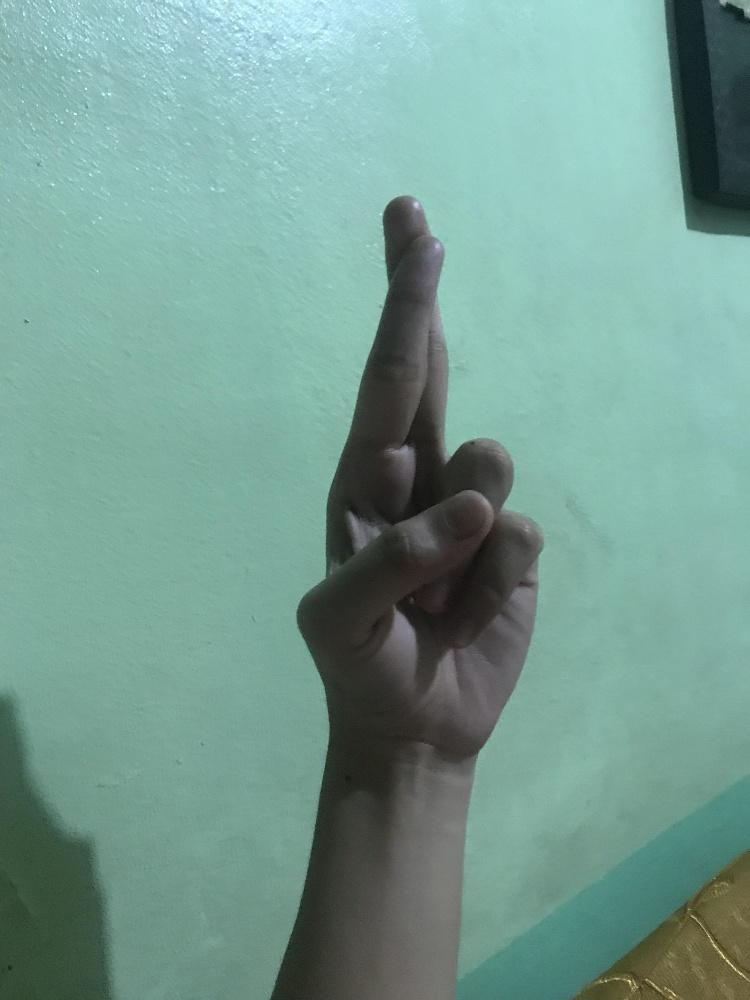r: (291, 188, 548, 761)
